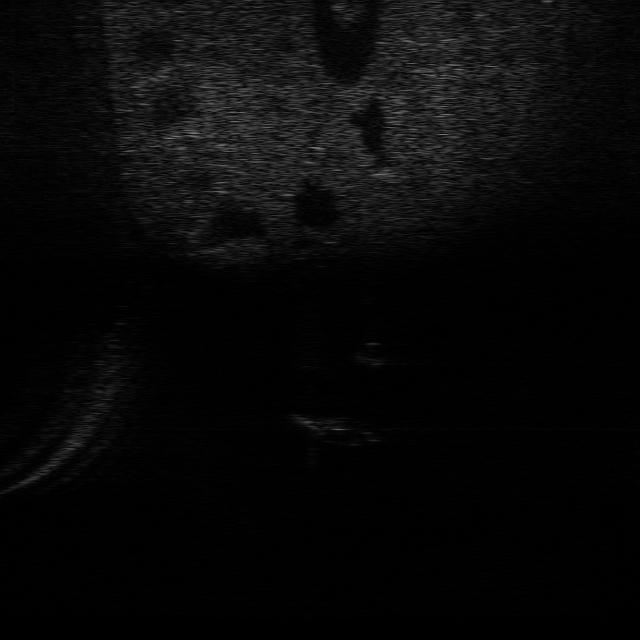ball: (343, 336, 395, 369)
square cage: (281, 406, 359, 440)
tyre: (319, 425, 381, 450)
